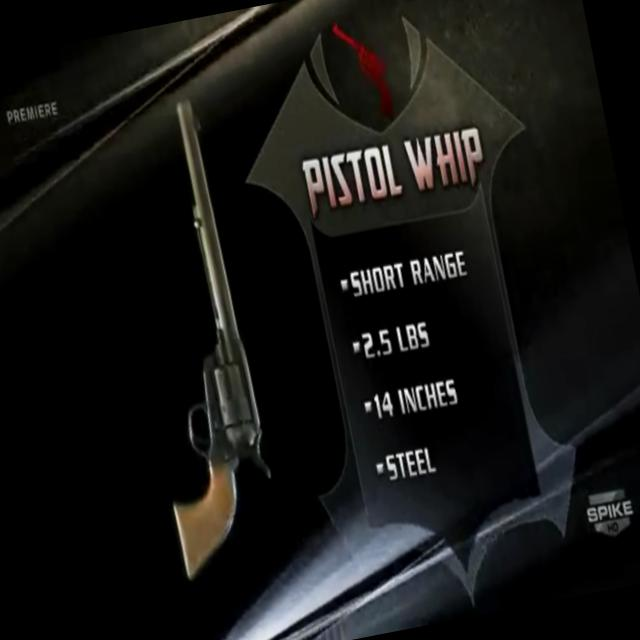handgun: (85, 76, 326, 624)
